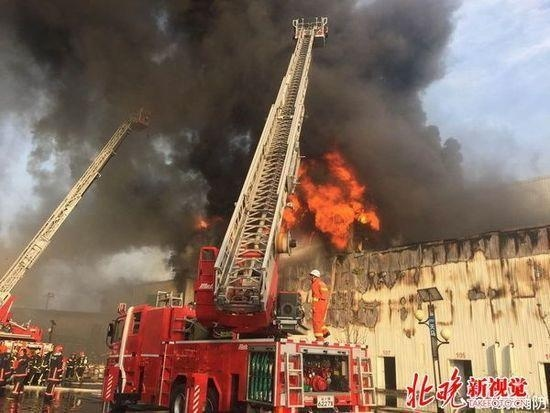fire: (284, 151, 382, 245)
